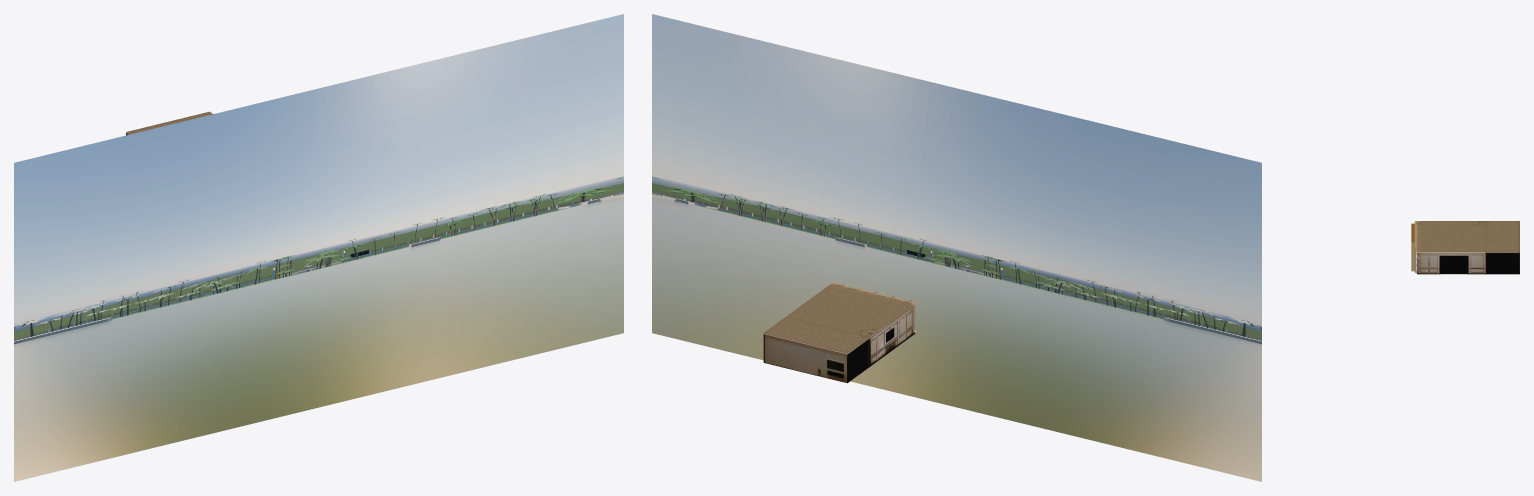
File: int_eko_r4.glb
The picture shows the model from 3 angles, left to right: view 1: azimuth 30°, elevation 25°; view 2: azimuth 150°, elevation 25°; view 3: azimuth 270°, elevation 25°; orthographic projection. The views are drawn at different scales.
Parts seen in each view (by area): view 1: VIEW_front; view 2: VIEW_front, ROOM; view 3: ROOM.
Boxes of the visible parts, x1=… form: VIEW_front: x1=14, y1=14, x2=623, y2=481; VIEW_front: x1=652, y1=14, x2=1261, y2=481; ROOM: x1=763, y1=282, x2=916, y2=383; ROOM: x1=1411, y1=221, x2=1519, y2=274.
Size of the model in its own units: 72 by 36 by 30.97.
Materials: 3 (2 with a texture image).
